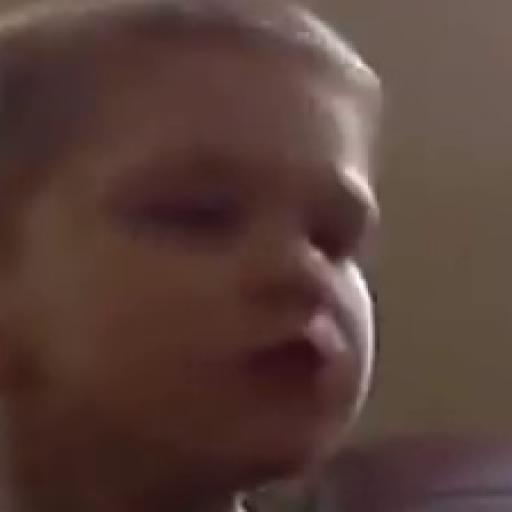Autism: (30, 19, 466, 487)
